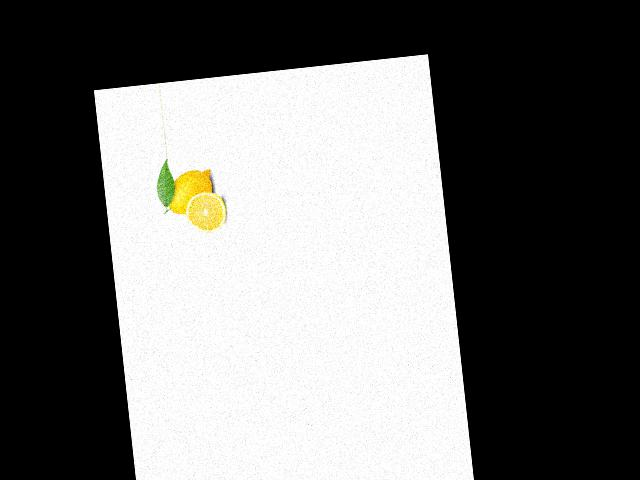lemon: (157, 162, 218, 220)
